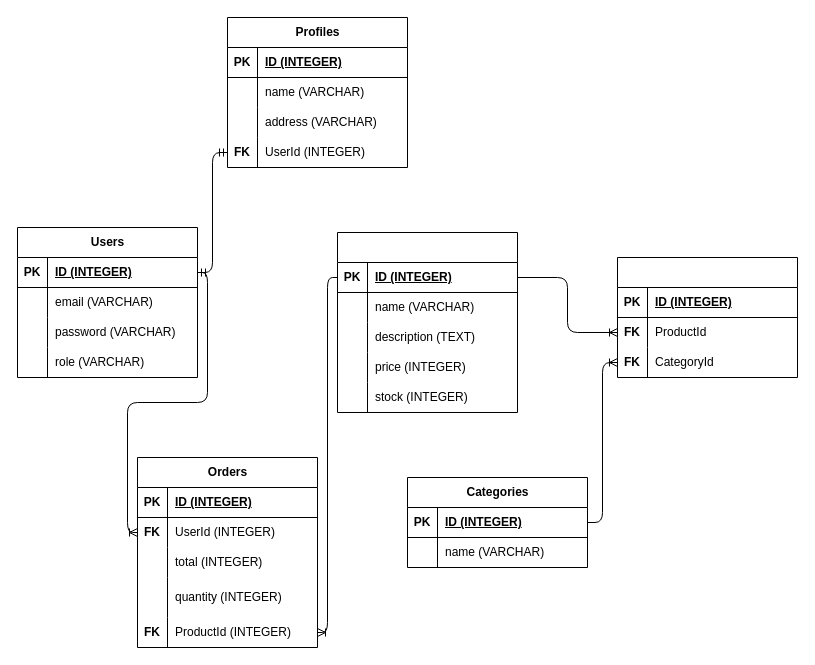
The diagram is 815 pixels wide and 665 high, and some of its shapes have lost their labels. The shapes that lost their labels are listed below. From the top down, each one's box as (x1, y1, x2, y2) in pixels, then its label:
(336, 232, 518, 412): Products
(616, 256, 798, 378): Product_Categories
